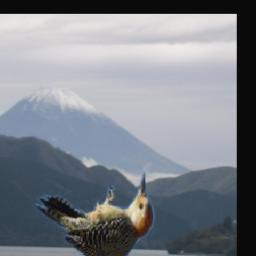Woodpecker: (31, 168, 164, 256)
